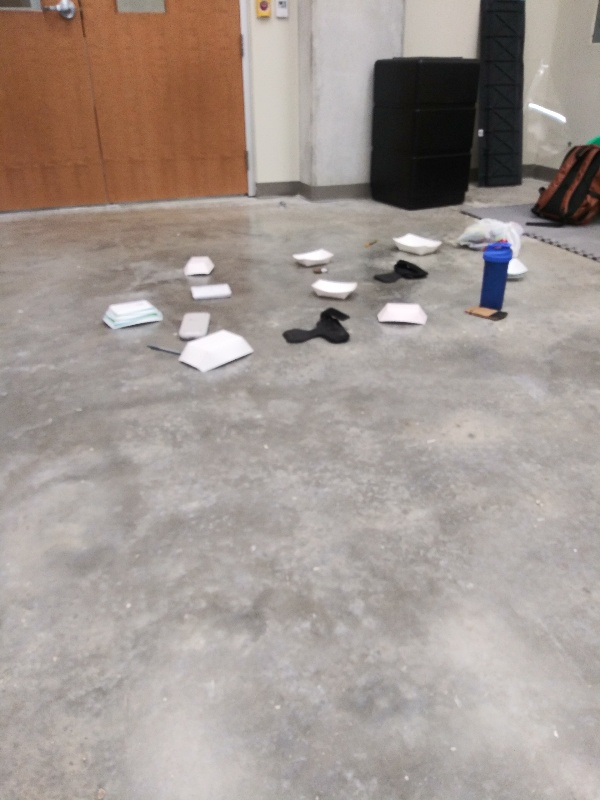plate: (172, 328, 256, 373), (98, 296, 167, 335), (306, 273, 362, 305), (385, 230, 446, 259), (373, 299, 429, 327), (289, 246, 340, 272), (504, 249, 533, 285), (177, 254, 219, 278)
